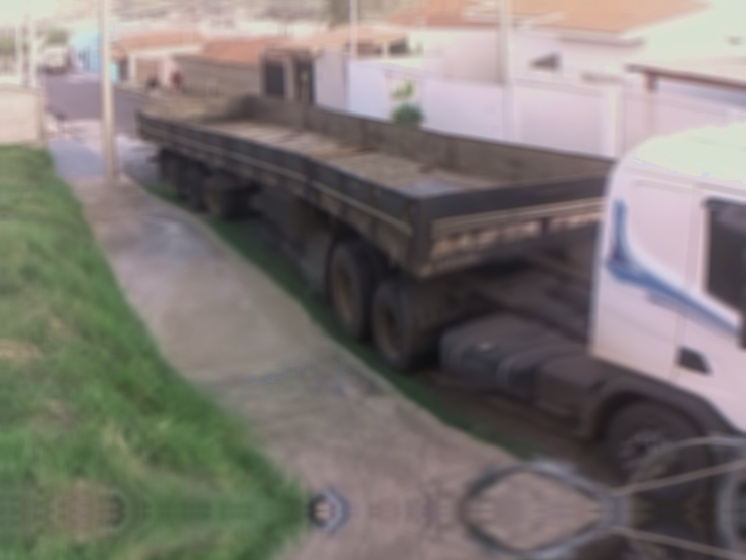person: (169, 67, 192, 97), (144, 72, 161, 104)
